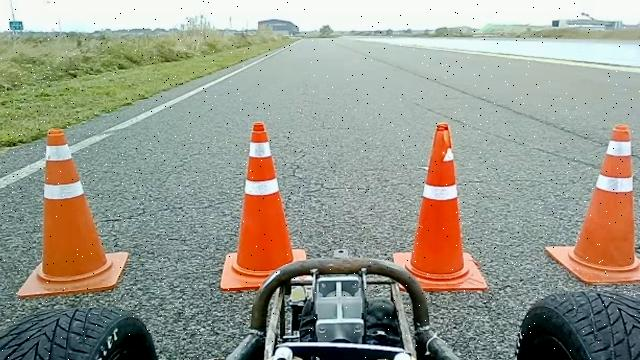red cone: (17, 127, 128, 298), (393, 121, 488, 292), (544, 122, 640, 286), (222, 120, 310, 292)
